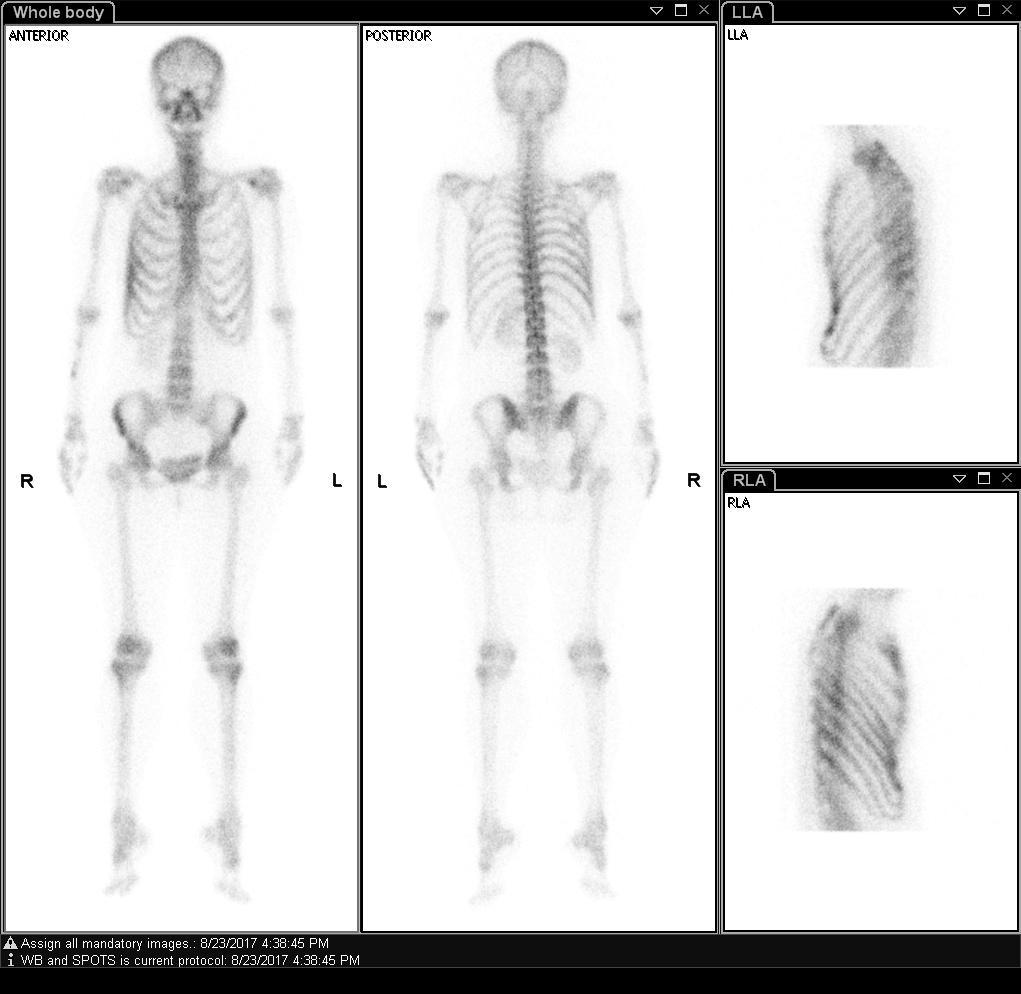person: (4, 25, 716, 932)
